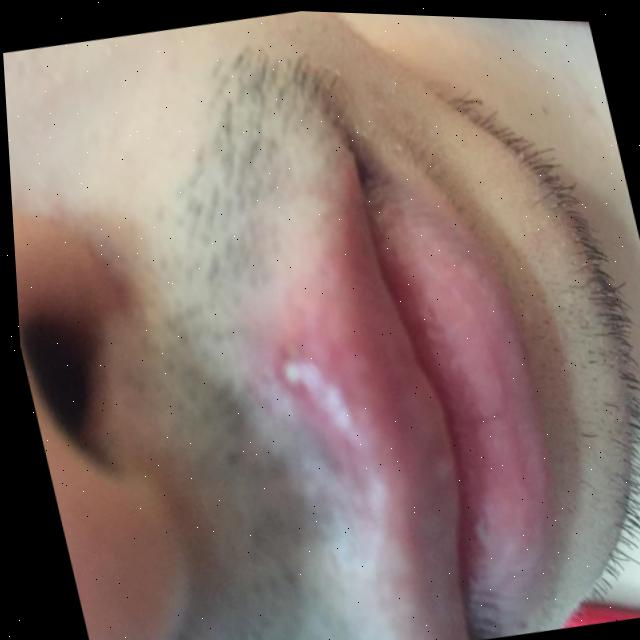Acne: (273, 341, 330, 432)
